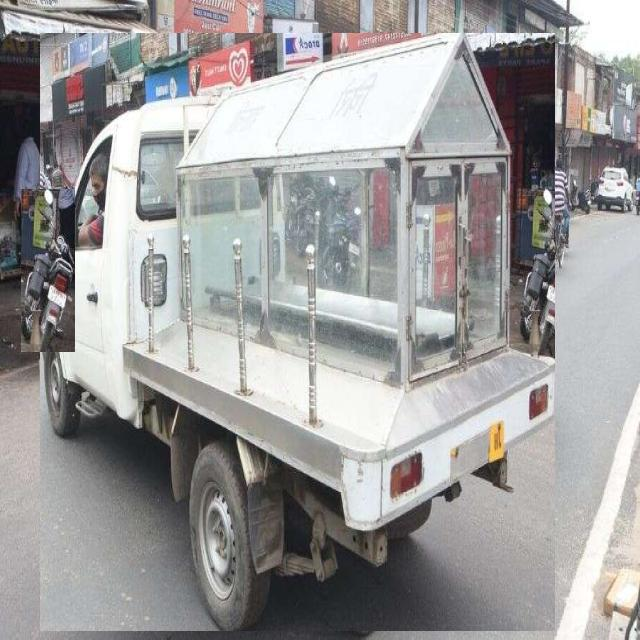motorcycle: (21, 189, 75, 352)
truck: (40, 34, 555, 631)
